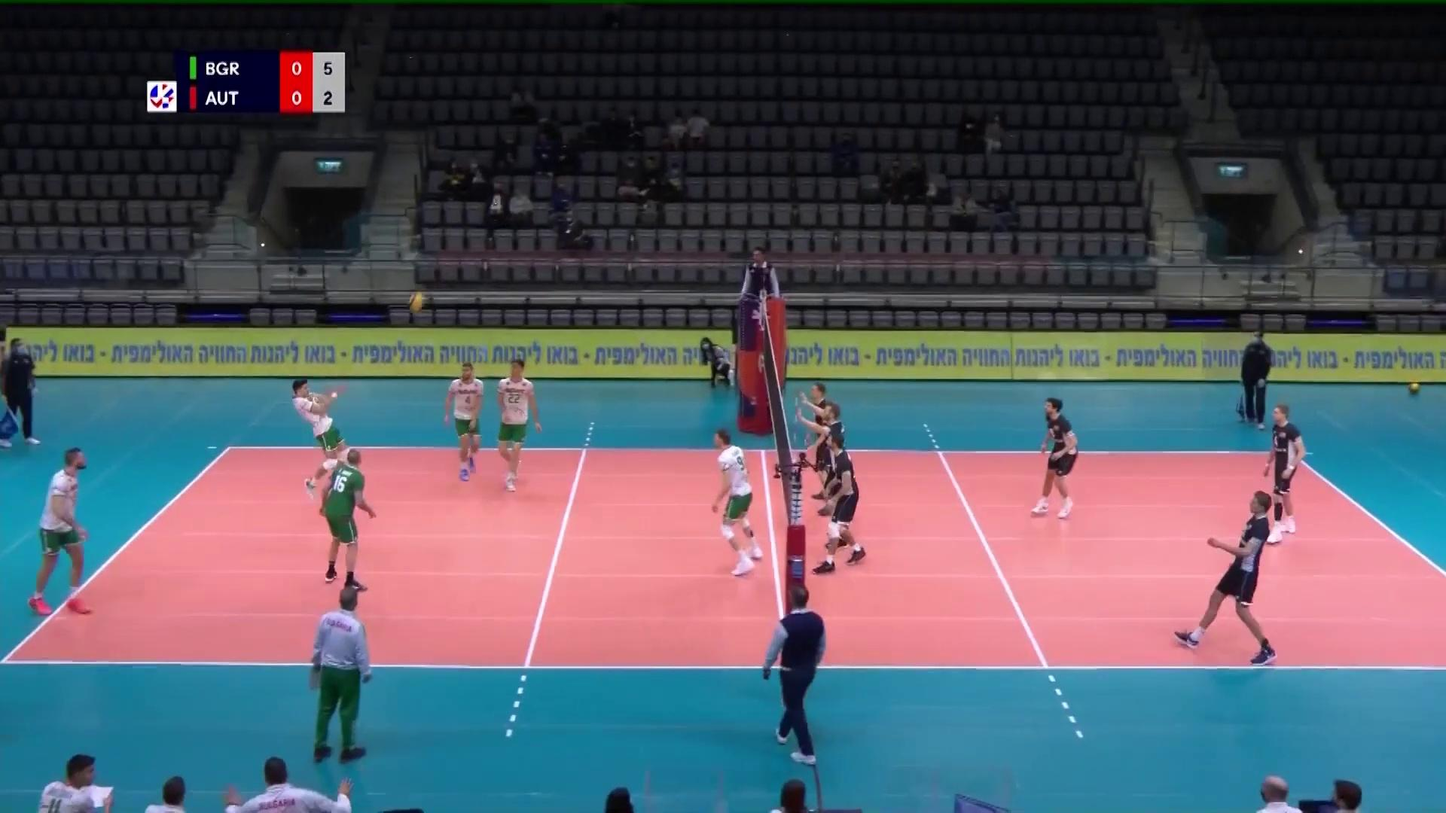ball: (409, 292, 423, 312)
